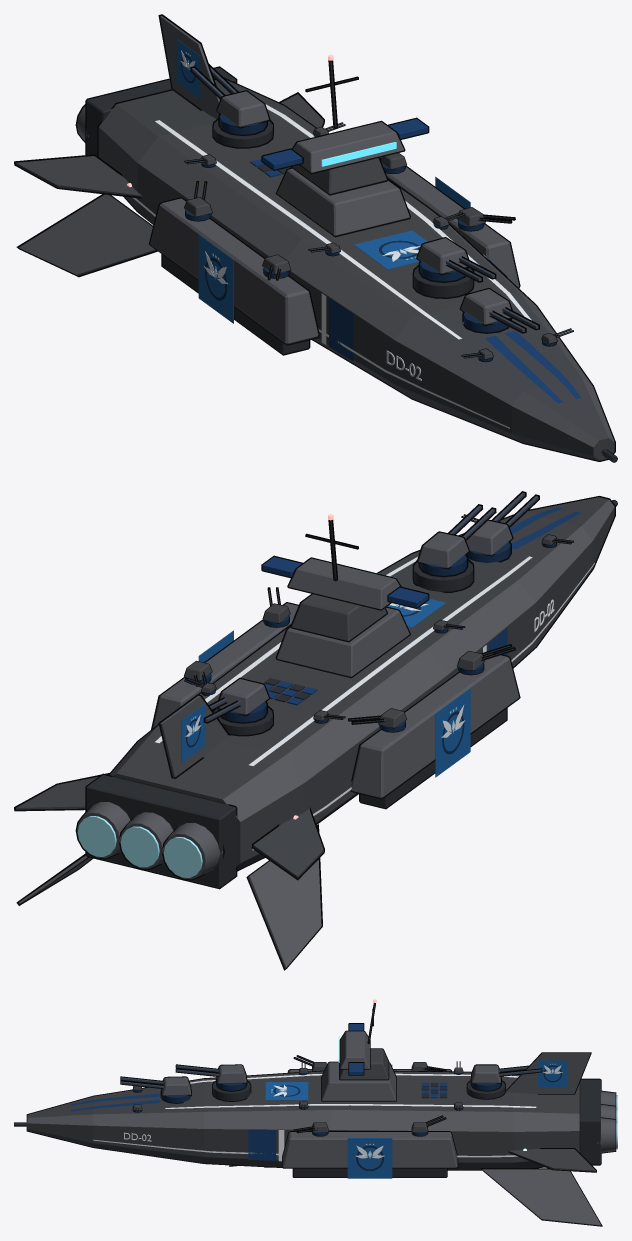
Rendered from Destroyer_Warship.fbx.
3 views of the same model, one above another, from view 1: azimuth 30°, elevation 25°; view 2: azimuth 150°, elevation 25°; view 3: azimuth 270°, elevation 25° (orthographic). The views are drawn at different scales.
Visible parts, largest first — view 1: Hull, Sponson-1, FinV-1, Bridge_A, FinH-1, Sponson1, Bridge_C, Mk_Emb-1, FinD, Eng_Block, Bridge_B, Mk_EmbTop (+14 smaller); view 2: Hull, Sponson-1, Eng_Block, FinV-1, Bridge_A, Bridge_C, FinH-1, Sponson1, Bridge_B, FinD, Mk_Emb-1, FinH1 (+18 smaller); view 3: Hull, Sponson1, FinV1, Bridge_A, Mk_Emb1, Eng_Block, FinD, FinH1, SponsonFoot1, Bridge_C, Bridge_B, Mk_Bandside+ (+12 smaller).
Part boxes in pixels (bbox=[...]): Hull: bbox=[97, 77, 615, 461]; Sponson-1: bbox=[149, 197, 319, 345]; FinV-1: bbox=[16, 194, 157, 277]; Bridge_A: bbox=[275, 167, 410, 237]; FinH-1: bbox=[14, 154, 142, 198]; Sponson1: bbox=[386, 166, 520, 288]; Bridge_C: bbox=[292, 120, 405, 174]; Mk_Emb-1: bbox=[198, 234, 233, 323]; FinD: bbox=[158, 14, 219, 118]; Eng_Block: bbox=[85, 66, 237, 155]; Bridge_B: bbox=[291, 157, 387, 195]; Mk_EmbTop: bbox=[354, 230, 427, 269]; Hull: bbox=[108, 496, 615, 871]; Sponson-1: bbox=[350, 651, 520, 799]; Eng_Block: bbox=[85, 773, 237, 889]; FinV-1: bbox=[246, 824, 322, 970]; Bridge_A: bbox=[275, 606, 410, 678]; Bridge_C: bbox=[287, 557, 401, 610]; FinH-1: bbox=[251, 807, 324, 880]; Sponson1: bbox=[151, 602, 298, 729]; Bridge_B: bbox=[290, 594, 387, 642]; FinD: bbox=[158, 694, 230, 778]; Mk_Emb-1: bbox=[435, 688, 470, 777]; FinH1: bbox=[14, 773, 109, 811]; Hull: bbox=[26, 1070, 579, 1170]; Sponson1: bbox=[282, 1131, 458, 1168]; FinV1: bbox=[480, 1168, 602, 1226]; Bridge_A: bbox=[321, 1061, 396, 1101]; Mk_Emb1: bbox=[347, 1138, 392, 1178]; Eng_Block: bbox=[579, 1078, 601, 1165]; FinD: bbox=[506, 1052, 591, 1094]; FinH1: bbox=[508, 1148, 596, 1172]; SponsonFoot1: bbox=[292, 1168, 447, 1177]; Bridge_C: bbox=[339, 1030, 370, 1069]; Bridge_B: bbox=[339, 1048, 389, 1080]; Mk_Bandside+: bbox=[248, 1129, 275, 1160].
Size of the model in its own units: 35.78 by 35.15 by 104.
